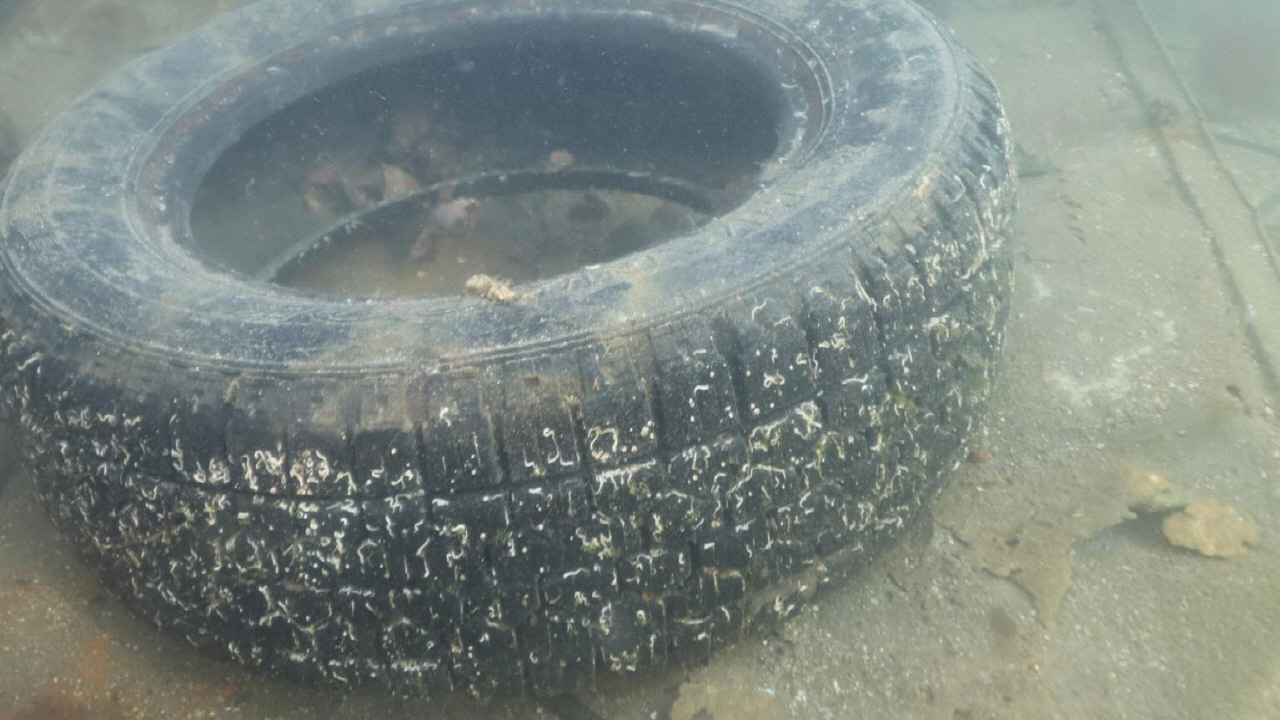tire: (0, 0, 1019, 707)
